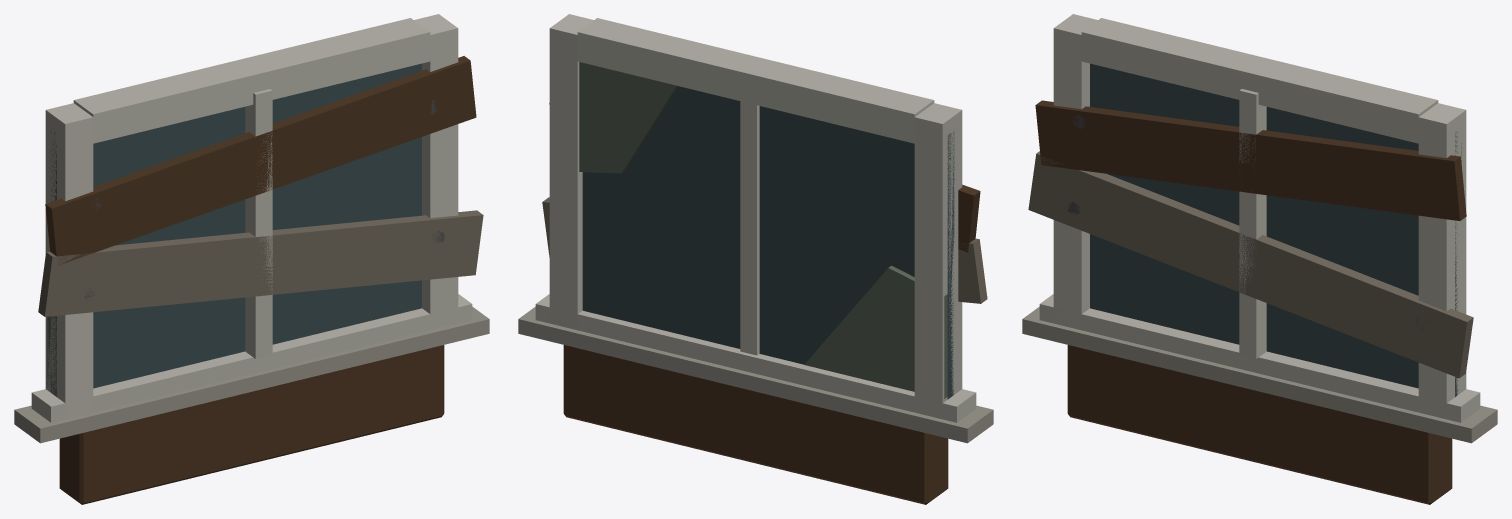
The model's file is house_window_broken.fbx.
3 views of the same model, side by side, from view 1: azimuth 30°, elevation 25°; view 2: azimuth 150°, elevation 25°; view 3: azimuth 330°, elevation 25° (orthographic).
Parts seen in each view (by area): view 1: house_window_broken; view 2: house_window_broken; view 3: house_window_broken.
Part boxes in pixels (box(x1,y1,x2,y2)): house_window_broken: box(14, 14, 489, 504); house_window_broken: box(518, 14, 993, 504); house_window_broken: box(1022, 14, 1497, 504).
Bounding box in the file's own units: 1.6 × 1.32 × 0.16.
